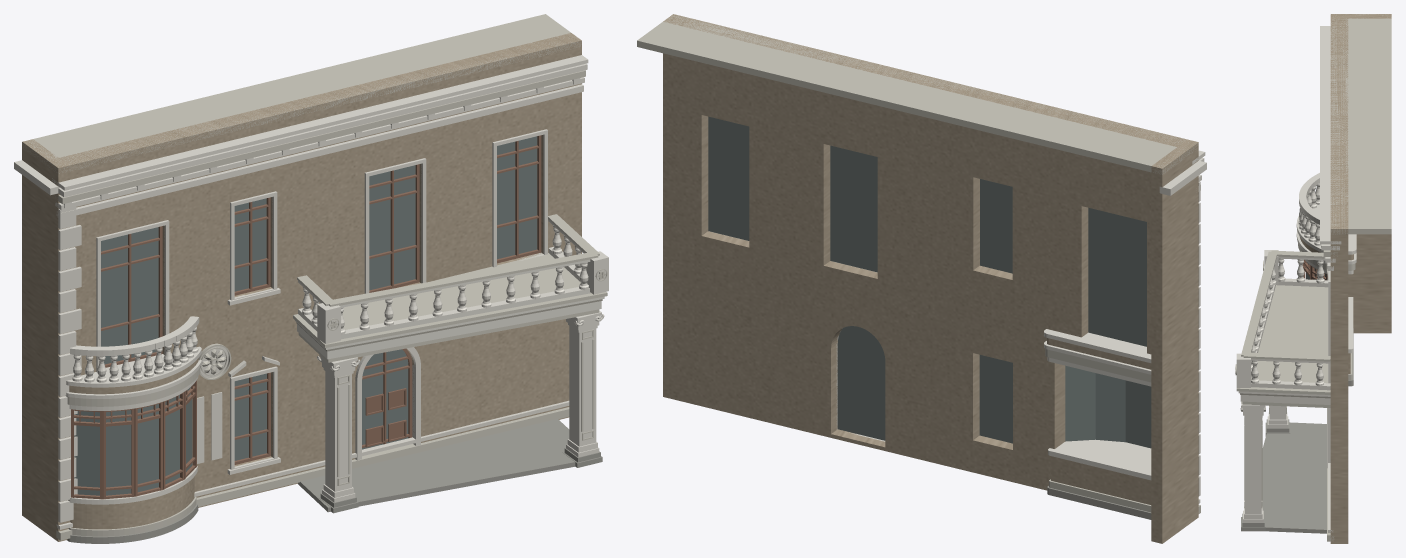
The model's file is jingan-zhu-douwen-residence-side-porch-raw.glb.
3 renders of one model, left to right at view 1: azimuth 30°, elevation 25°; view 2: azimuth 150°, elevation 25°; view 3: azimuth 270°, elevation 25°, orthographic. The views are drawn at different scales.
Visible parts, largest first — view 1: 朱斗文公馆侧门柱廊与弧窗; view 2: 朱斗文公馆侧门柱廊与弧窗; view 3: 朱斗文公馆侧门柱廊与弧窗.
Part boxes in pixels (x1,y1,x2,y2): 朱斗文公馆侧门柱廊与弧窗: [14, 14, 608, 543]; 朱斗文公馆侧门柱廊与弧窗: [637, 14, 1206, 543]; 朱斗文公馆侧门柱廊与弧窗: [1235, 14, 1391, 543].
Bounding box in the file's own units: 14.07 × 9.49 × 4.25.
7 materials, 1 textured.
